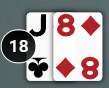8: (52, 12, 80, 39)
j: (28, 12, 51, 39)
